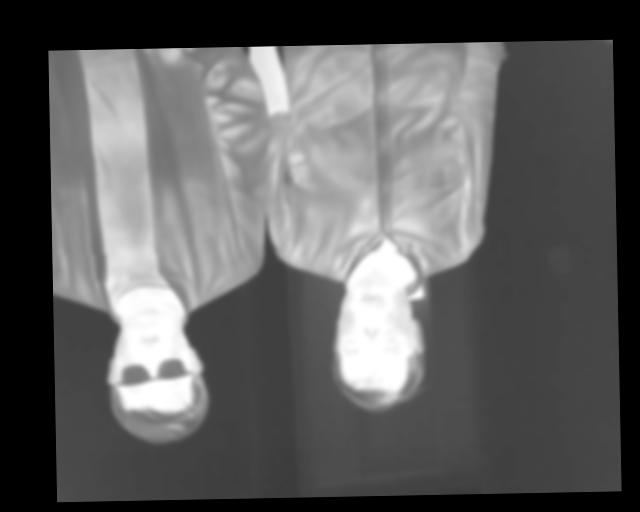face: (104, 305, 208, 445), (329, 273, 427, 413)
